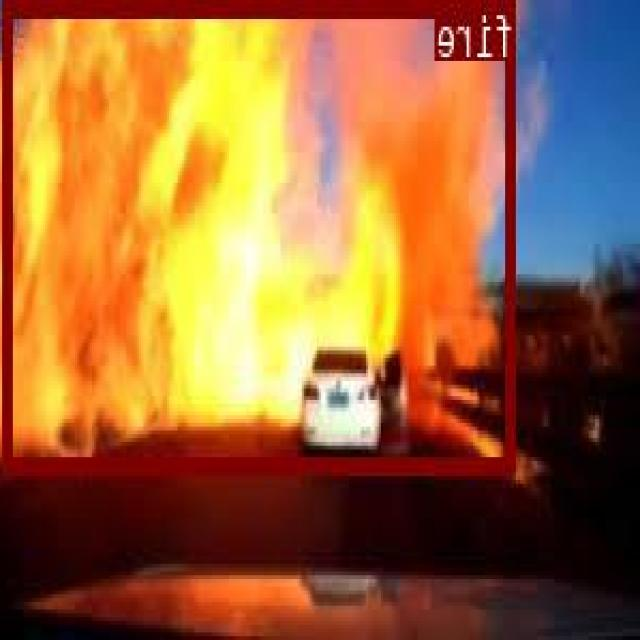fire: (5, 0, 517, 469)
